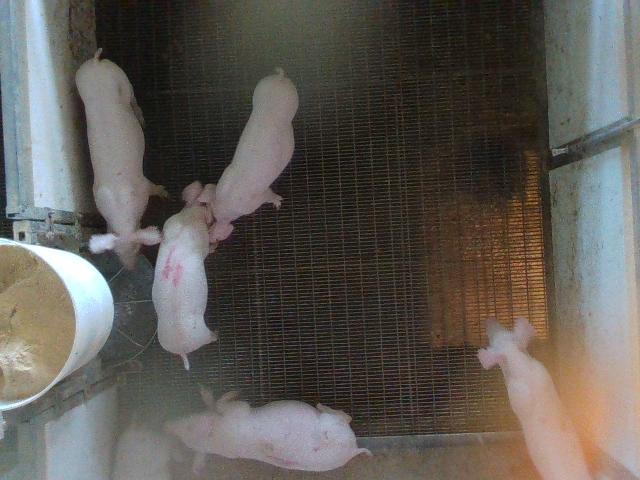pig-1: (165, 390, 370, 473)
pig-4: (152, 181, 216, 369)
